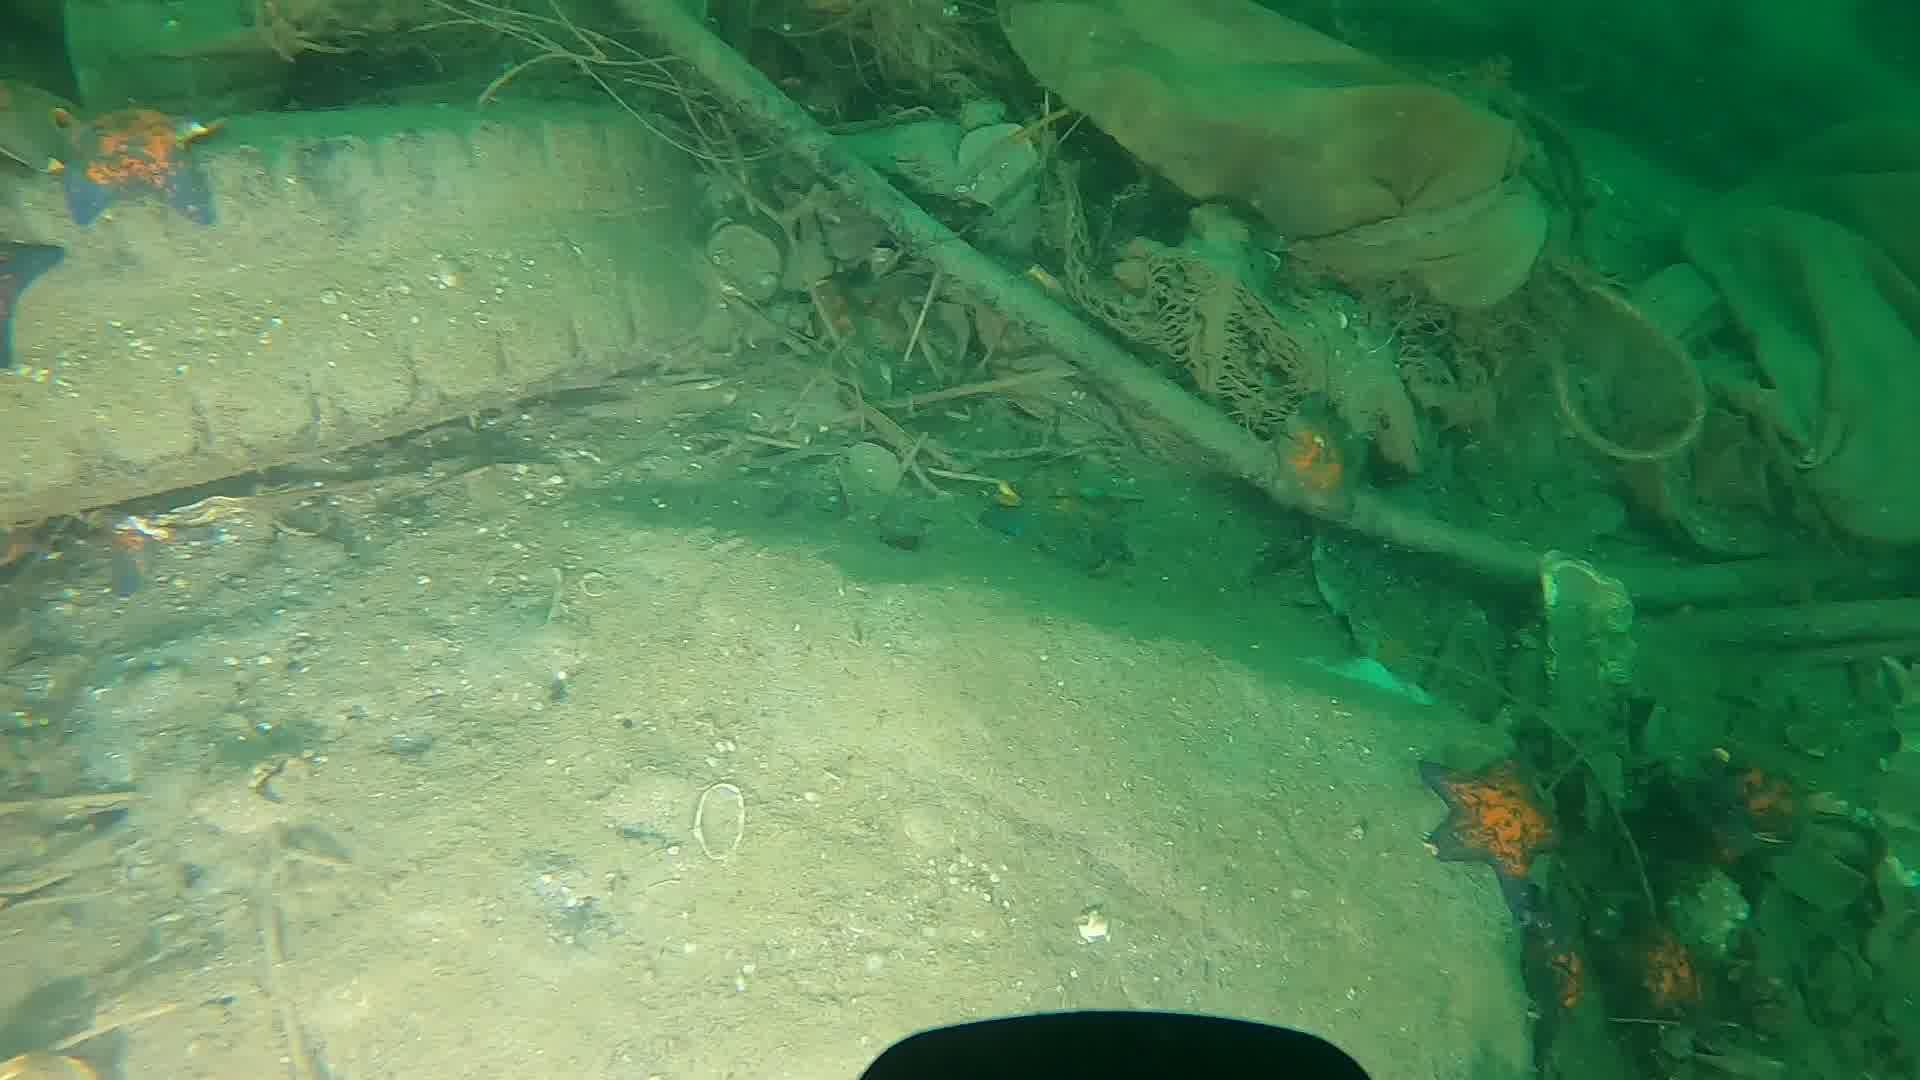fish net: (1054, 158, 1302, 429)
rope: (1545, 258, 1709, 460)
